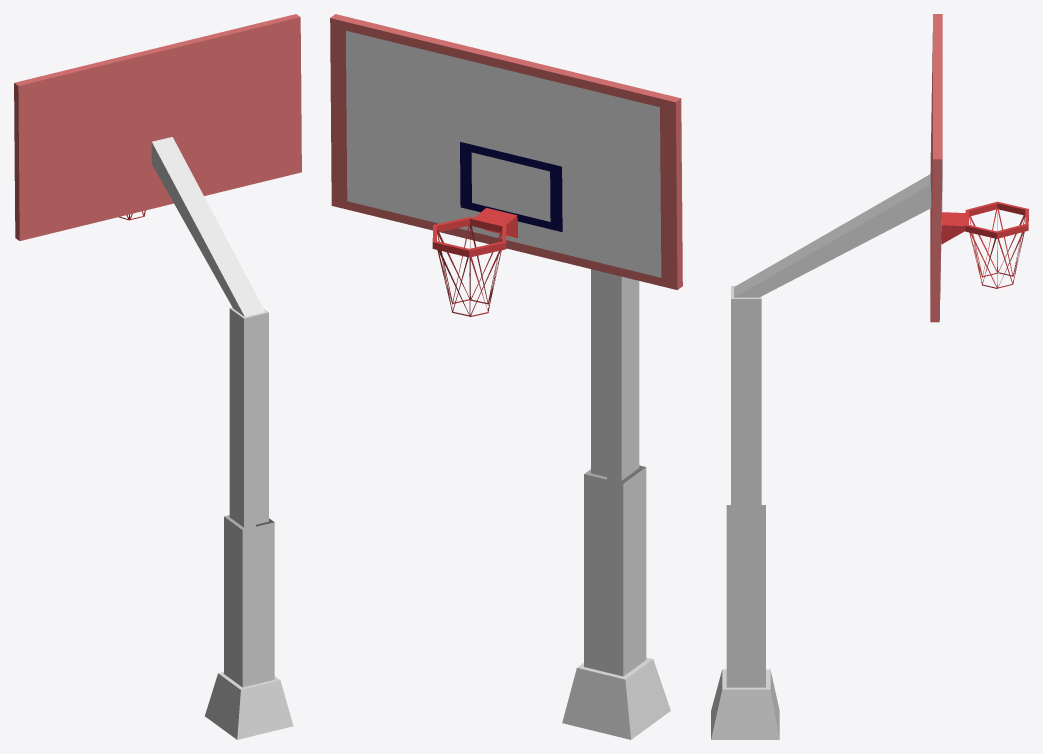
The model's file is SHDRNRHFEO.fbx.
3 views of the same model, side by side, from view 1: azimuth 30°, elevation 25°; view 2: azimuth 150°, elevation 25°; view 3: azimuth 270°, elevation 25° (orthographic). The views are drawn at different scales.
Visible parts, largest first — view 1: Plane, Cube.003; view 2: Plane, Cube.003, Cube.001; view 3: Cube.003, Plane, Cube.001.
Part boxes in pixels (x1,y1,x2,y2): Plane: [14, 14, 301, 240]; Cube.003: [151, 137, 293, 739]; Plane: [330, 14, 682, 289]; Cube.003: [562, 269, 670, 739]; Cube.001: [432, 208, 517, 316]; Cube.003: [711, 174, 931, 739]; Plane: [930, 14, 942, 322]; Cube.001: [941, 201, 1028, 288].
Bounding box in the file's own units: 323 × 662 × 299.
